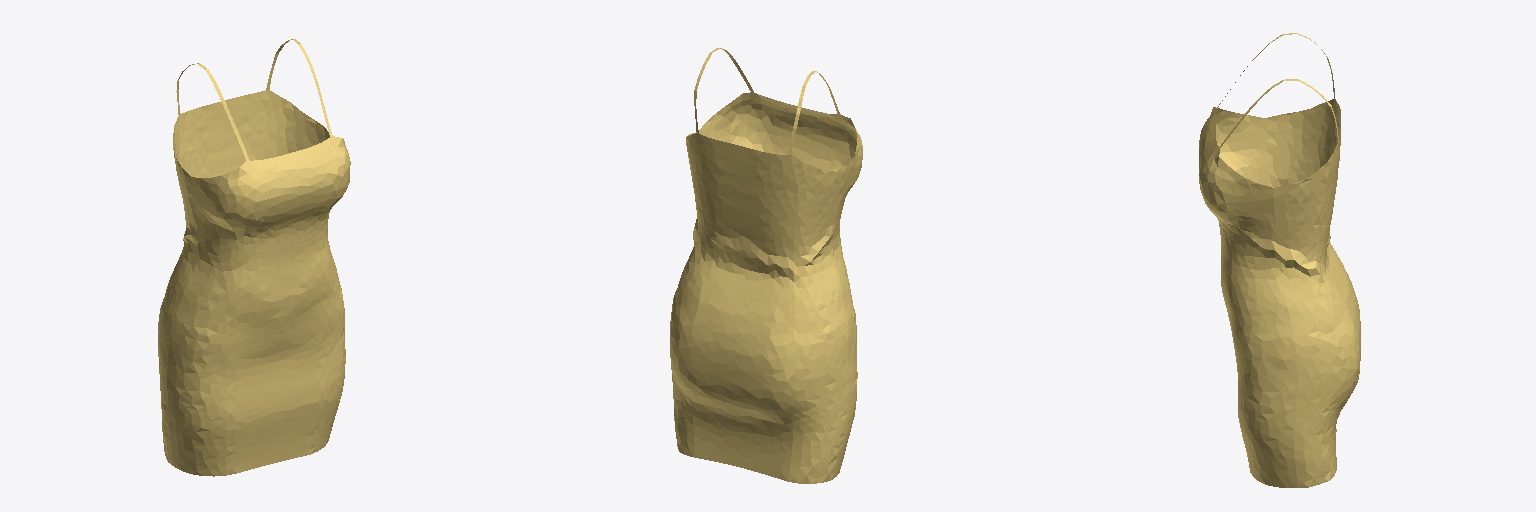
3 renders of one model, left to right at view 1: azimuth 30°, elevation 25°; view 2: azimuth 150°, elevation 25°; view 3: azimuth 270°, elevation 25°, orthographic.
Visible parts, largest first — view 1: small_beigeBodycon:Mesh; view 2: small_beigeBodycon:Mesh; view 3: small_beigeBodycon:Mesh.
Boxes of the visible parts, box(x1,y1,x2,y2) form: small_beigeBodycon:Mesh: box(158, 39, 350, 476); small_beigeBodycon:Mesh: box(670, 48, 862, 483); small_beigeBodycon:Mesh: box(1199, 33, 1360, 487).
Size of the model in its own units: 327 by 732 by 271.
Materials: 10 (1 with a texture image).